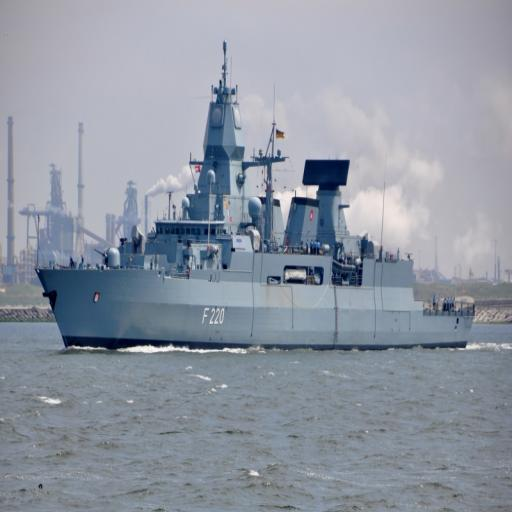Fragata: (31, 41, 482, 360)
